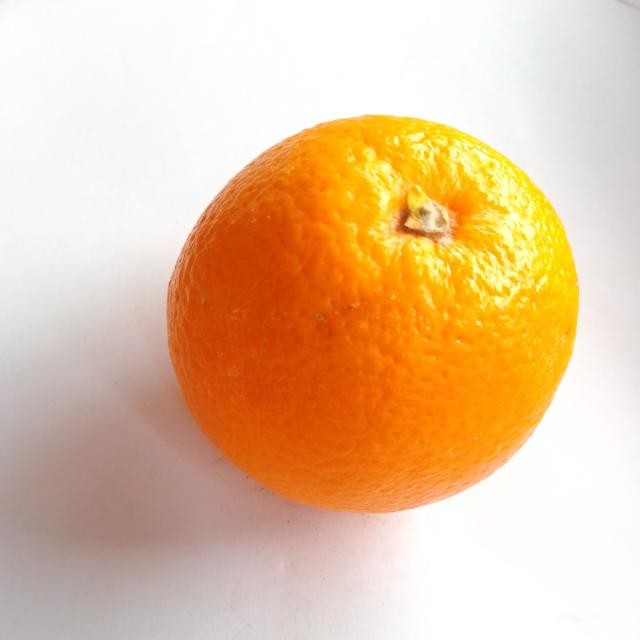orange: (168, 116, 578, 512)
